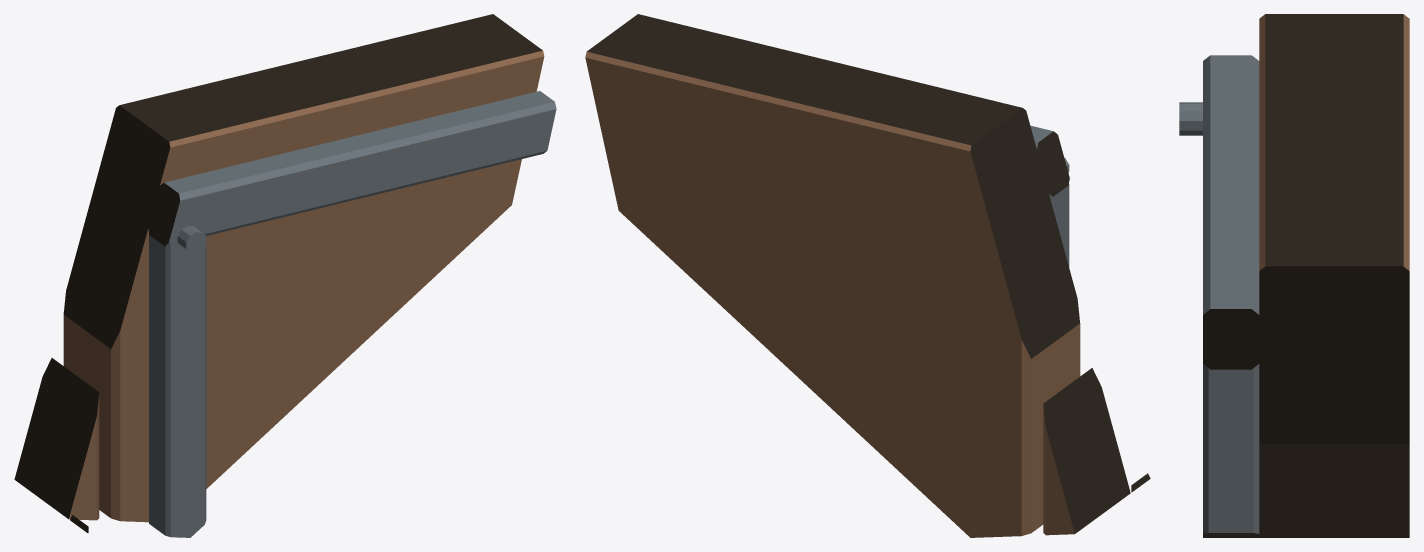
File: SM_DoorShard_03_53.fbx
3 views of the same model, side by side, from view 1: azimuth 30°, elevation 25°; view 2: azimuth 150°, elevation 25°; view 3: azimuth 270°, elevation 25° (orthographic). The views are drawn at different scales.
Visible parts, largest first — view 1: SM_DoorShard_03_53; view 2: SM_DoorShard_03_53; view 3: SM_DoorShard_03_53.
Boxes of the visible parts, x1,y1,x2,y2 form: SM_DoorShard_03_53: (14, 14, 556, 537); SM_DoorShard_03_53: (585, 14, 1150, 537); SM_DoorShard_03_53: (1179, 14, 1409, 537).
Size of the model in its own units: 81.02 by 24.5 by 61.63.
